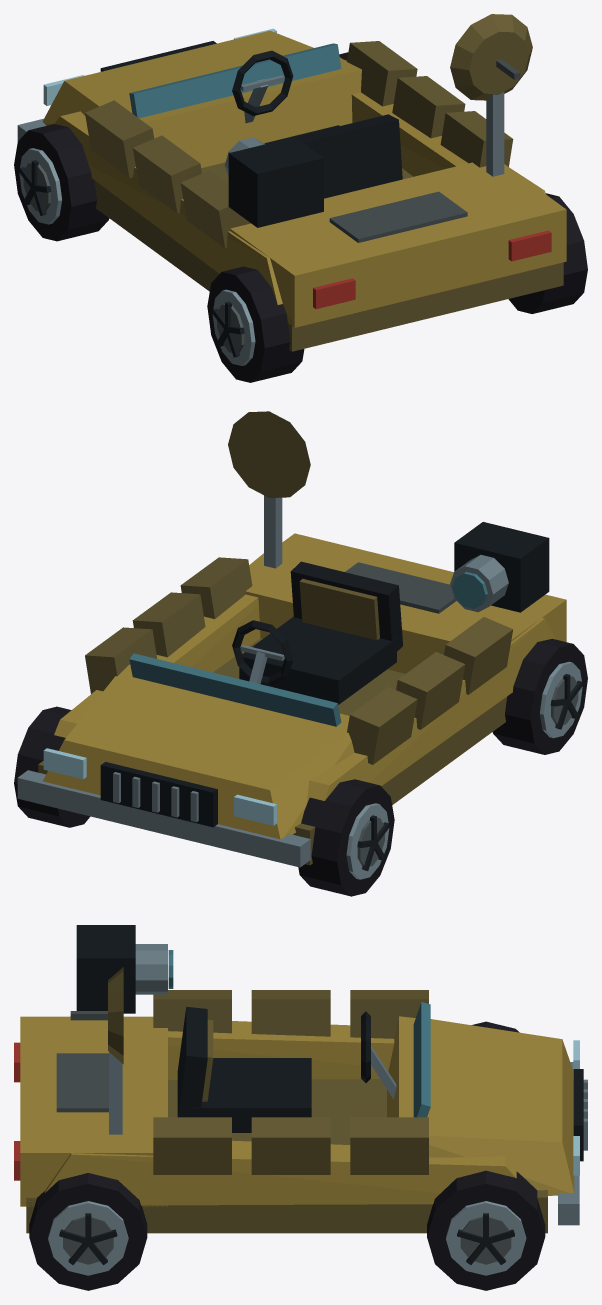
File: kart.glb
The picture shows the model from 3 angles, top to bottom: view 1: azimuth 30°, elevation 25°; view 2: azimuth 150°, elevation 25°; view 3: azimuth 270°, elevation 25°; orthographic projection. The views are drawn at different scales.
Parts seen in each view (by area): view 1: identity-sedan-sedan-road-car-body, identity-sedan-motif-armor, identity-sedan-driver-cockpit, wheel-front-left, wheel-rear-left, identity-sedan-motif-camera, identity-sedan-motif-radar, wheel-rear-right; view 2: identity-sedan-sedan-road-car-body, identity-sedan-motif-armor, identity-sedan-driver-cockpit, wheel-front-left, wheel-rear-left, identity-sedan-motif-camera, identity-sedan-motif-radar, wheel-front-right; view 3: identity-sedan-sedan-road-car-body, identity-sedan-motif-armor, wheel-front-right, identity-sedan-driver-cockpit, wheel-rear-right, identity-sedan-motif-camera, identity-sedan-motif-radar.
Part boxes in pixels (left/top/right/bottom): identity-sedan-sedan-road-car-body: left=17, top=28, right=566, bottom=351; identity-sedan-motif-armor: left=85, top=41, right=513, bottom=248; identity-sedan-driver-cockpit: left=232, top=50, right=402, bottom=198; wheel-front-left: left=14, top=124, right=109, bottom=241; wheel-rear-left: left=207, top=266, right=304, bottom=382; identity-sedan-motif-camera: left=224, top=137, right=323, bottom=227; identity-sedan-motif-radar: left=450, top=14, right=532, bottom=176; wheel-rear-right: left=508, top=193, right=587, bottom=313; identity-sedan-sedan-road-car-body: left=17, top=533, right=566, bottom=867; identity-sedan-motif-armor: left=85, top=557, right=513, bottom=764; identity-sedan-driver-cockpit: left=232, top=561, right=402, bottom=704; wheel-front-left: left=298, top=779, right=394, bottom=896; wheel-rear-left: left=492, top=638, right=587, bottom=754; identity-sedan-motif-camera: left=450, top=522, right=549, bottom=612; identity-sedan-motif-radar: left=228, top=411, right=310, bottom=568; wheel-front-right: left=14, top=706, right=90, bottom=827; identity-sedan-sedan-road-car-body: left=14, top=1002, right=587, bottom=1233; identity-sedan-motif-armor: left=153, top=990, right=428, bottom=1174; wheel-front-right: left=427, top=1170, right=545, bottom=1290; identity-sedan-driver-cockpit: left=177, top=1006, right=396, bottom=1132; wheel-rear-right: left=29, top=1173, right=147, bottom=1290; identity-sedan-motif-camera: left=76, top=925, right=173, bottom=1013; identity-sedan-motif-radar: left=70, top=967, right=123, bottom=1134.
Size of the model in its own units: 2.07 by 1.65 by 2.92.
